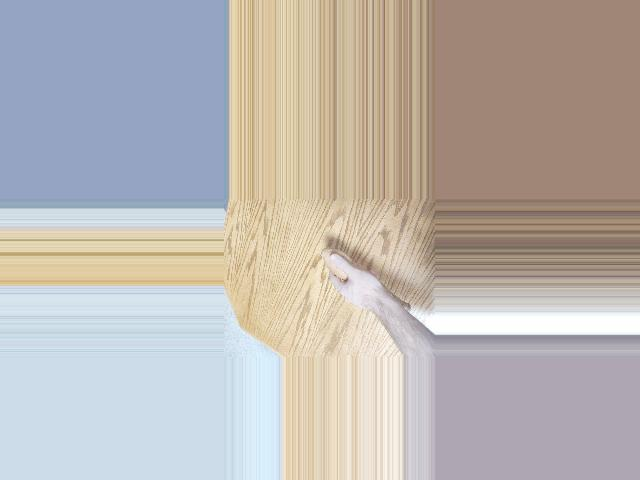sweet_potato: (320, 247, 415, 318)
